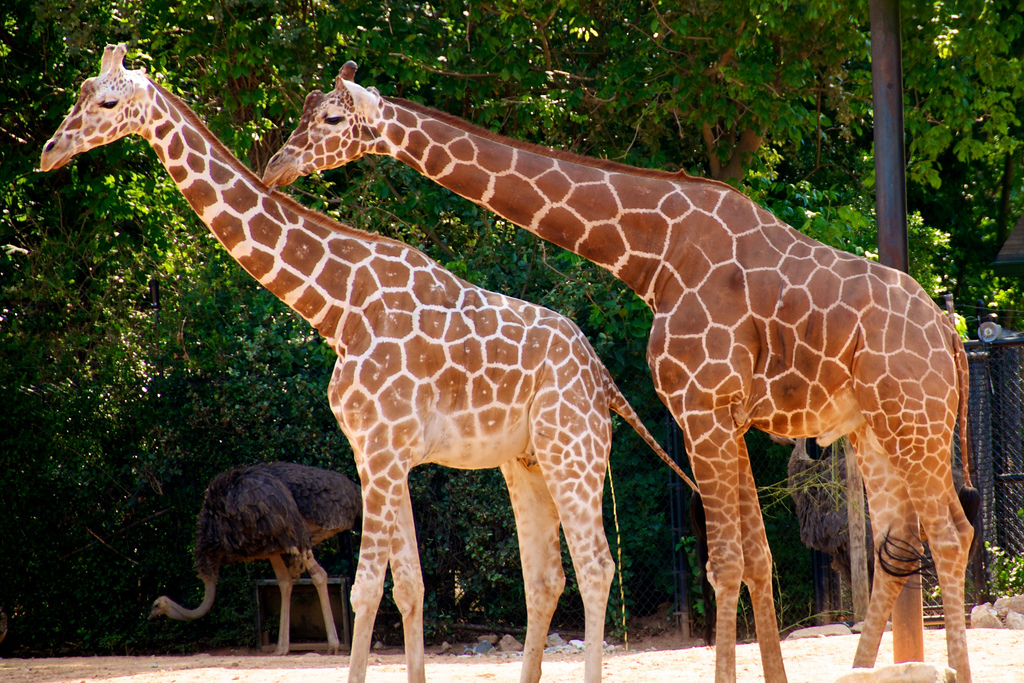giraffe: (288, 63, 989, 680), (42, 41, 617, 663)
